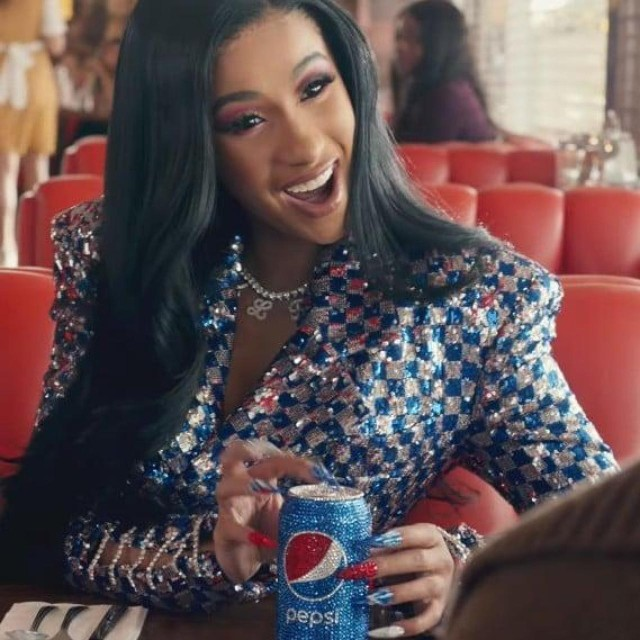pepsi: (284, 526, 349, 606)
